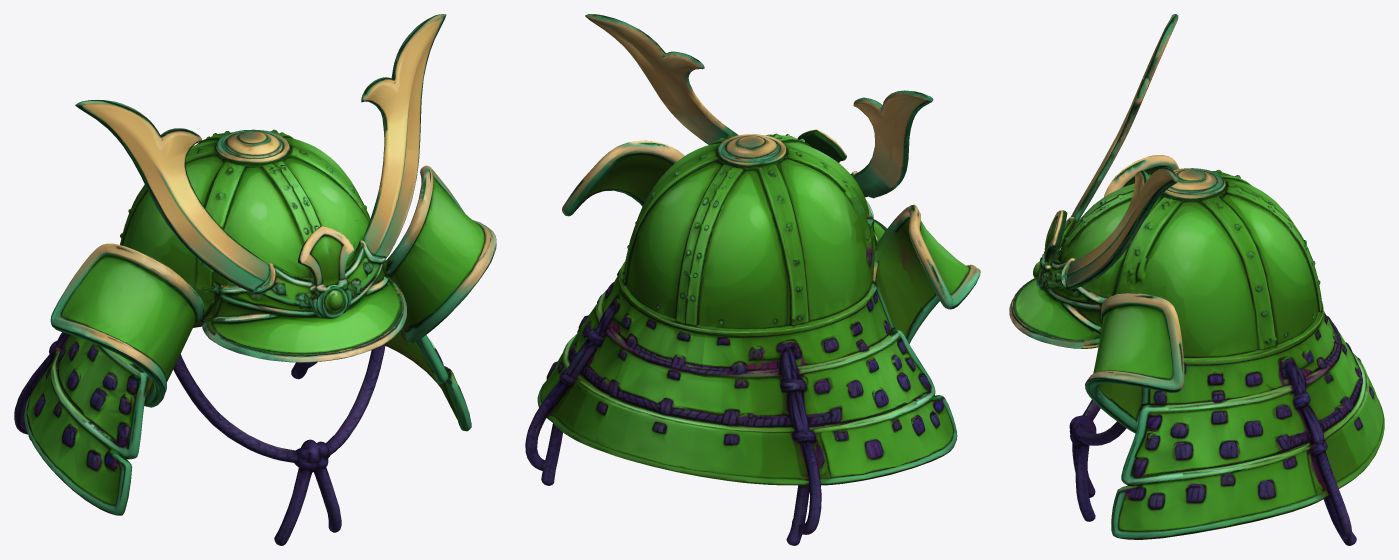
Rendered from green-samurai-helmet.glb.
The picture shows the model from 3 angles, left to right: view 1: azimuth 30°, elevation 25°; view 2: azimuth 150°, elevation 25°; view 3: azimuth 270°, elevation 25°; orthographic projection. The views are drawn at different scales.
Parts seen in each view (by area): view 1: Gear_; view 2: Gear_; view 3: Gear_.
Boxes of the visible parts, left/top/right/bottom form: Gear_: left=14, top=14, right=496, bottom=545; Gear_: left=525, top=14, right=980, bottom=545; Gear_: left=1009, top=14, right=1384, bottom=545.
Size of the model in its own units: 1.03 by 1.04 by 0.8576.
Materials: 1 (1 with a texture image).
